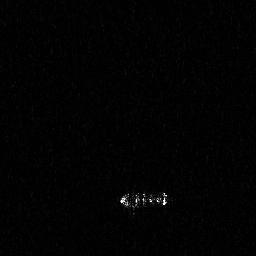ship: (117, 188, 170, 217)
